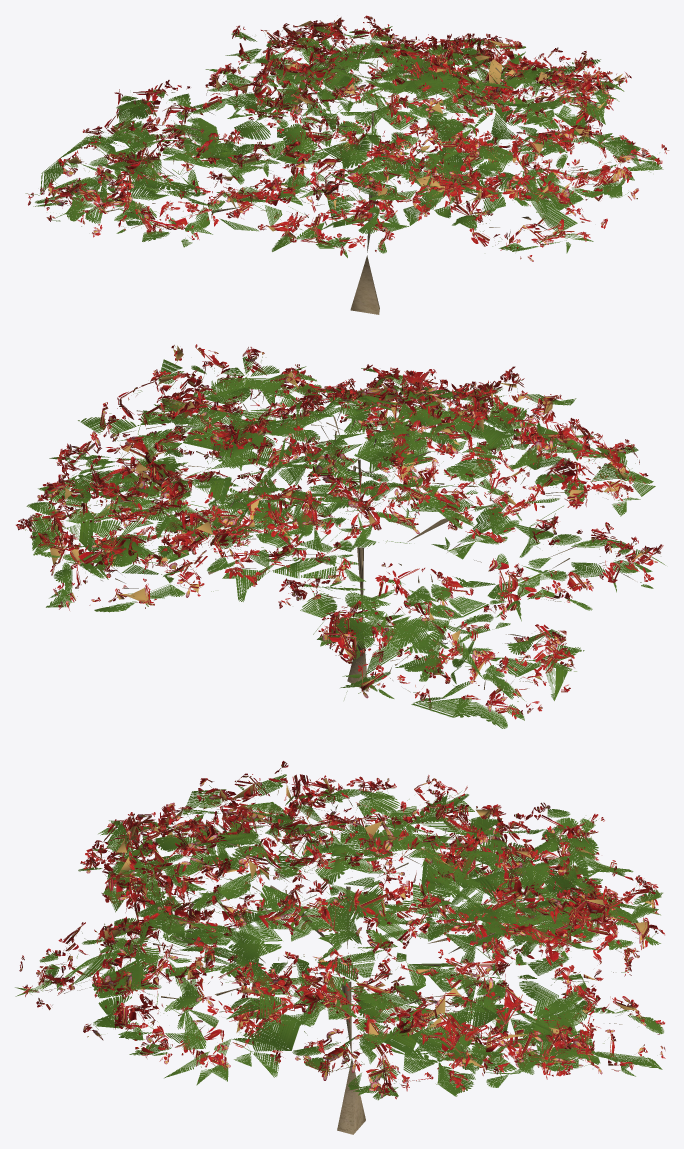
The model's file is tree_poinciana_lod1.glb.
3 views of the same model, one above another, from view 1: azimuth 30°, elevation 25°; view 2: azimuth 150°, elevation 25°; view 3: azimuth 270°, elevation 25° (orthographic). The views are drawn at different scales.
Visible parts, largest first — view 1: Delonix_regia_HD; view 2: Delonix_regia_HD; view 3: Delonix_regia_HD.
Boxes of the visible parts, box(x1,y1,x2,y2) form: Delonix_regia_HD: box(25, 15, 669, 314); Delonix_regia_HD: box(16, 344, 665, 728); Delonix_regia_HD: box(15, 761, 665, 1134).
Bounding box in the file's own units: 8.94 × 4.24 × 7.92.
Materials: 9 (8 with a texture image).
